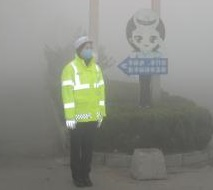person: (57, 34, 110, 188)
